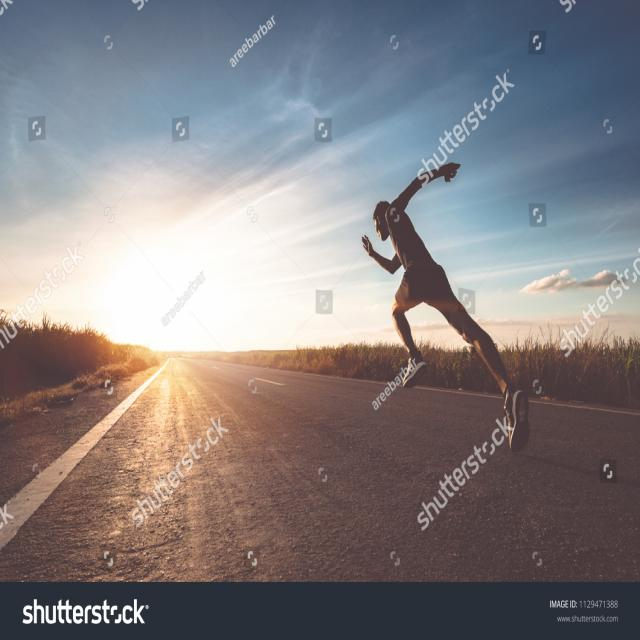running: (359, 155, 532, 455)
